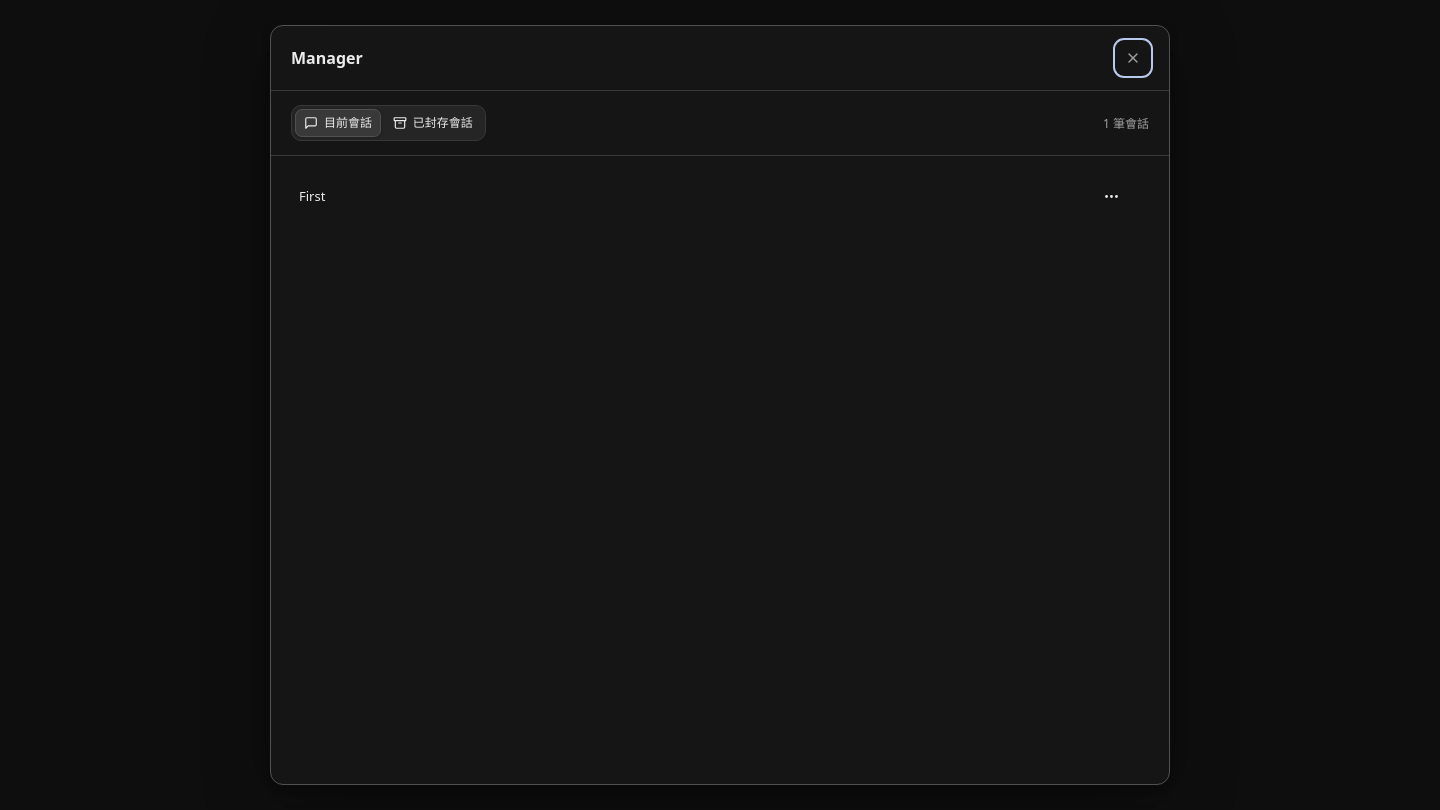
Test: gives a conversation menu keyboard and composition-safe Escape ownership before returning focus
The image size is (1440, 810).
Expected: the text "owned-session-id" is not shown
Click the button named "更多會話操作 First". click: (1112,197)
box: [1094,183,1129,211]
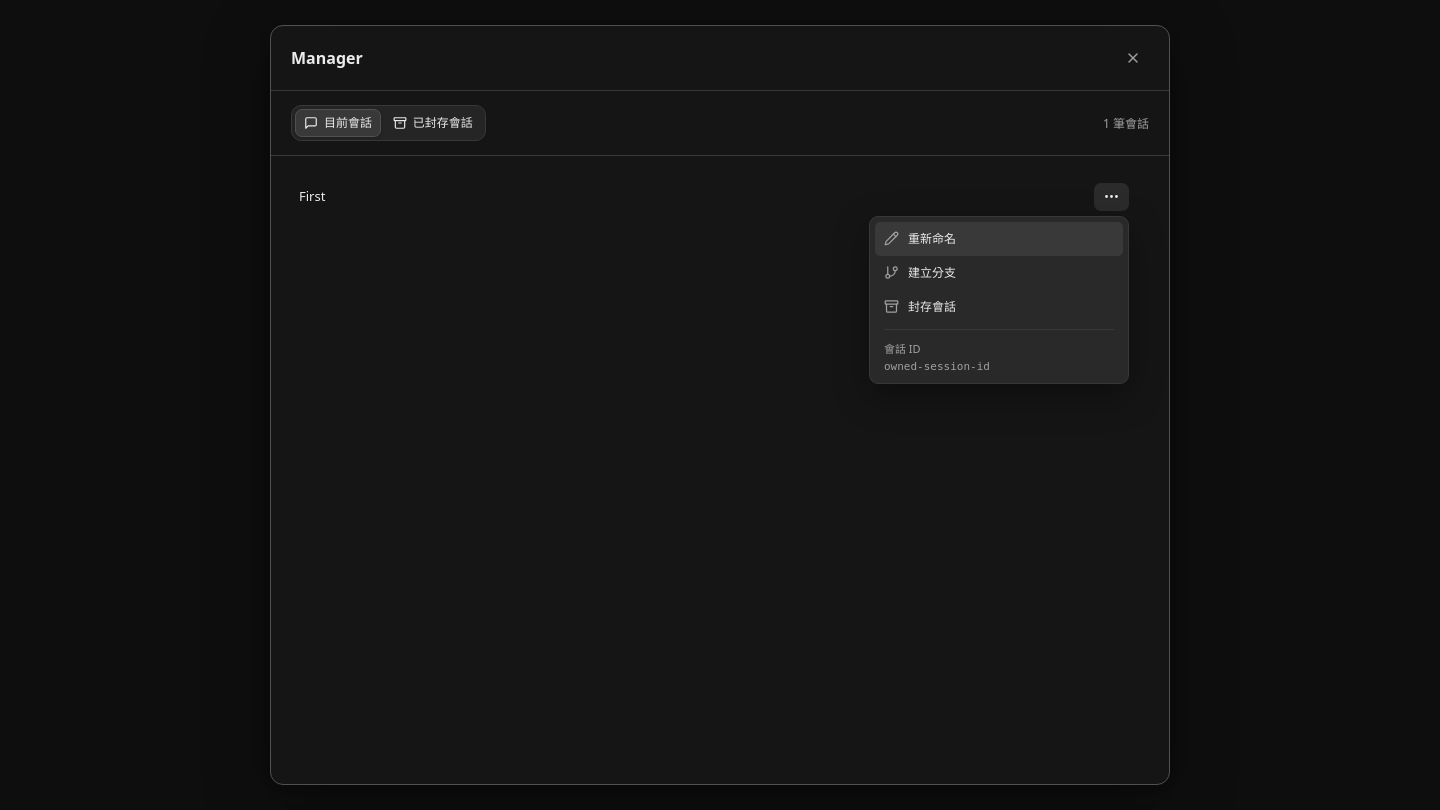
Result: the text "owned-session-id" is shown at [884,360,990,373]
Press ArrowDown in the menu item "重新命名", box [875,222,1123,256]
Press ArrowUp in the menu item "建立分支", box [875,256,1123,290]
Press End in the menu item "重新命名", box [875,222,1123,256]
Press Escape in the menu, box [869,216,1129,384]
Press Escape in the menu, box [869,216,1129,384]
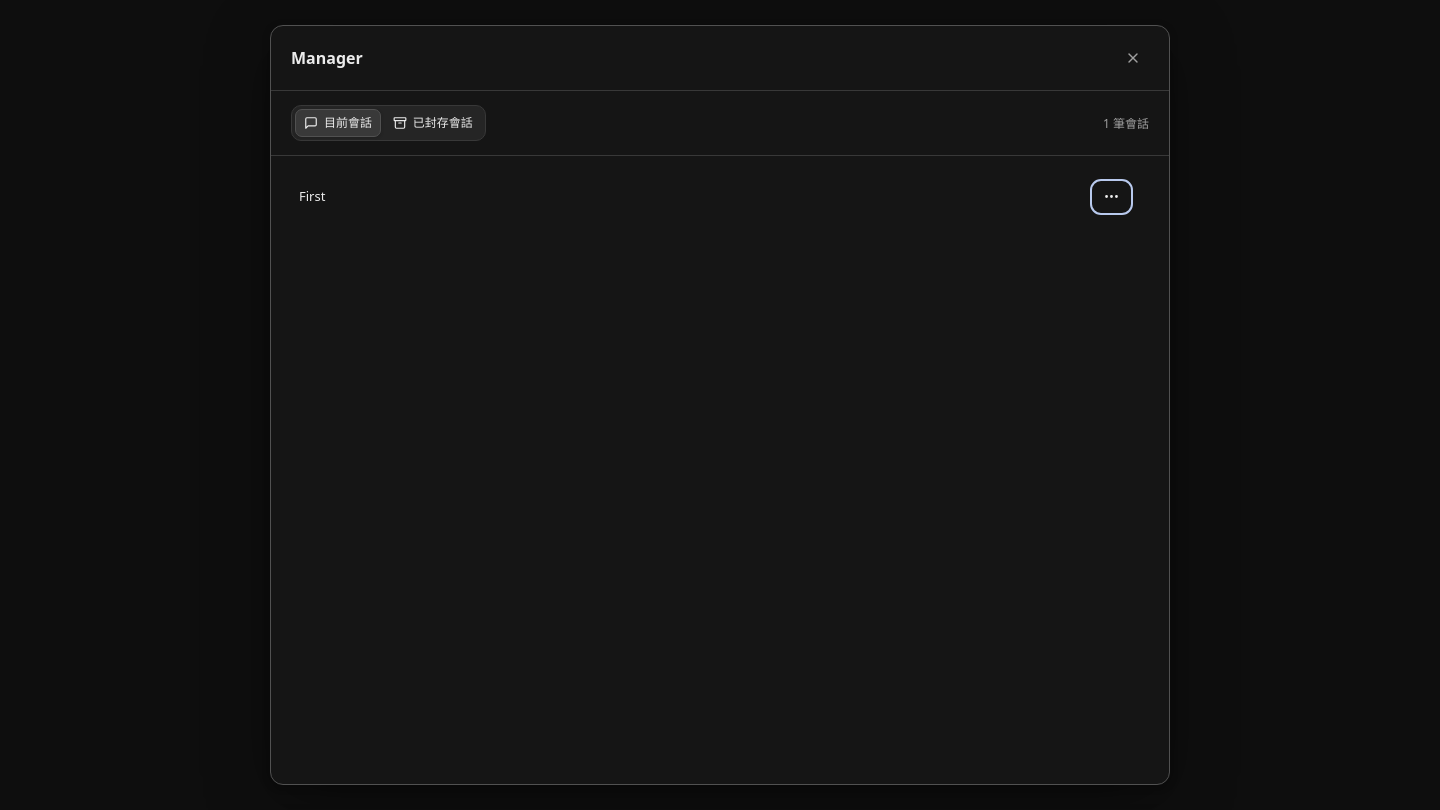
Expected: the dialog "Manager" is shown, [270,25,1170,785]
Result: the menu is gone
